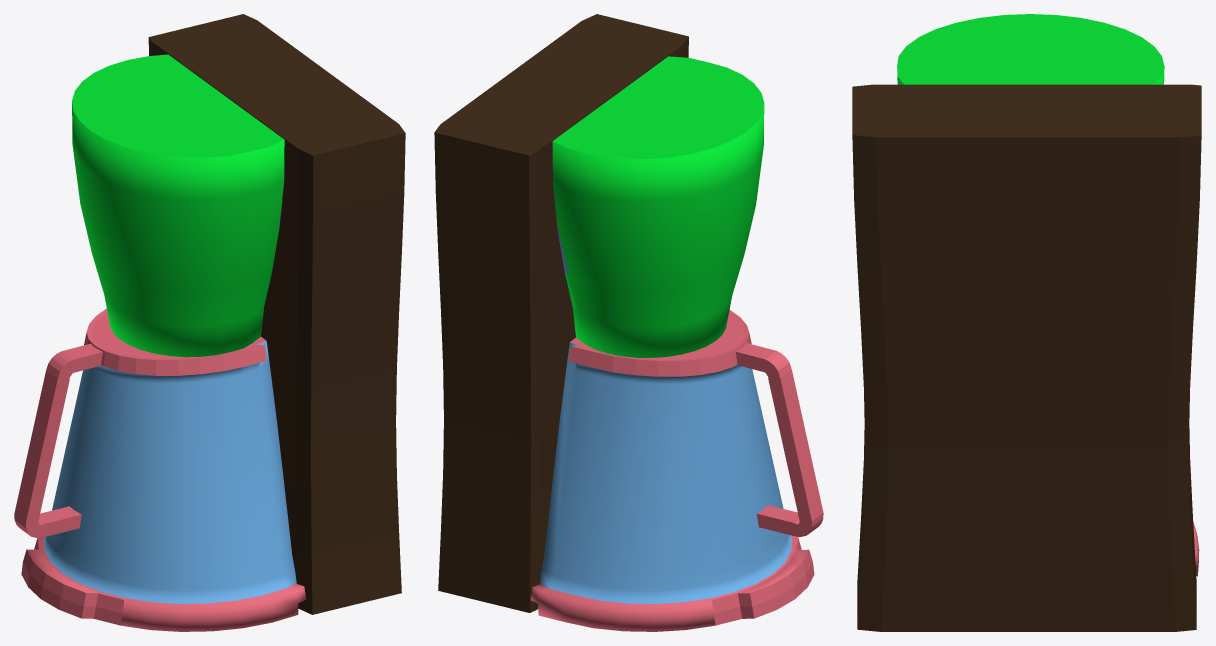
File: CoffeeMaker_Lin.fbx
3 views of the same model, side by side, from view 1: azimuth 30°, elevation 25°; view 2: azimuth 150°, elevation 25°; view 3: azimuth 270°, elevation 25° (orthographic). The views are drawn at different scales.
Visible parts, largest first — view 1: Cylinder; view 2: Cylinder; view 3: Cylinder.
Part boxes in pixels (x1,y1,x2,y2): Cylinder: (14,14,405,631); Cylinder: (434,14,823,631); Cylinder: (852,14,1201,631).
Size of the model in its own units: 248 by 355 by 227.
